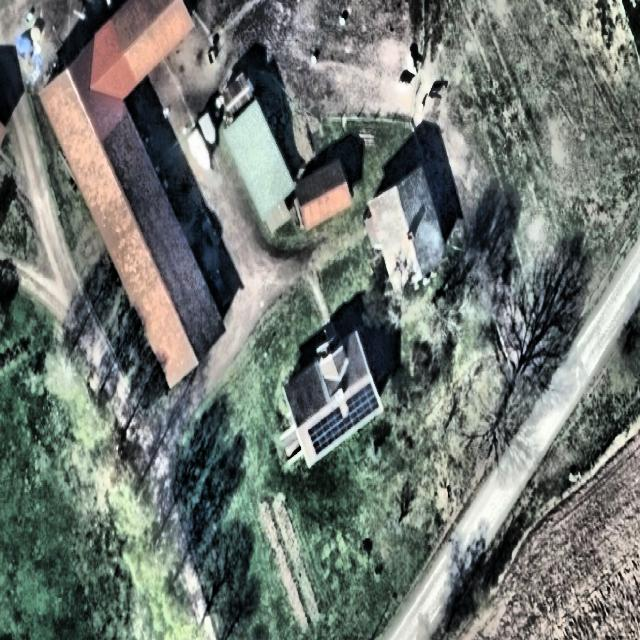roof_pv: (308, 404, 349, 458), (345, 381, 383, 429)
